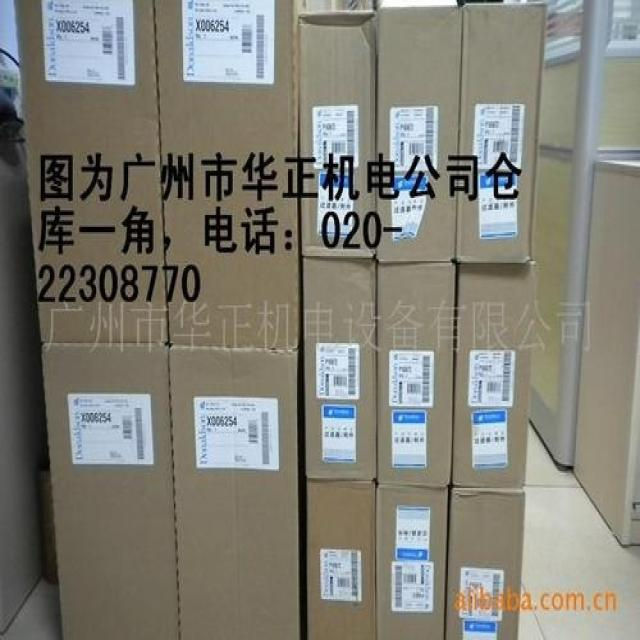box: (14, 1, 167, 344), (153, 3, 299, 352), (44, 344, 178, 637), (166, 352, 301, 637), (454, 3, 545, 262), (377, 6, 462, 259), (449, 261, 536, 491), (299, 12, 379, 259), (375, 259, 456, 489), (300, 257, 377, 483), (442, 487, 526, 638), (374, 481, 449, 638), (305, 481, 374, 638), (39, 446, 61, 582)
